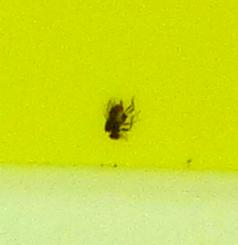Brachycera: (100, 100, 138, 145)
